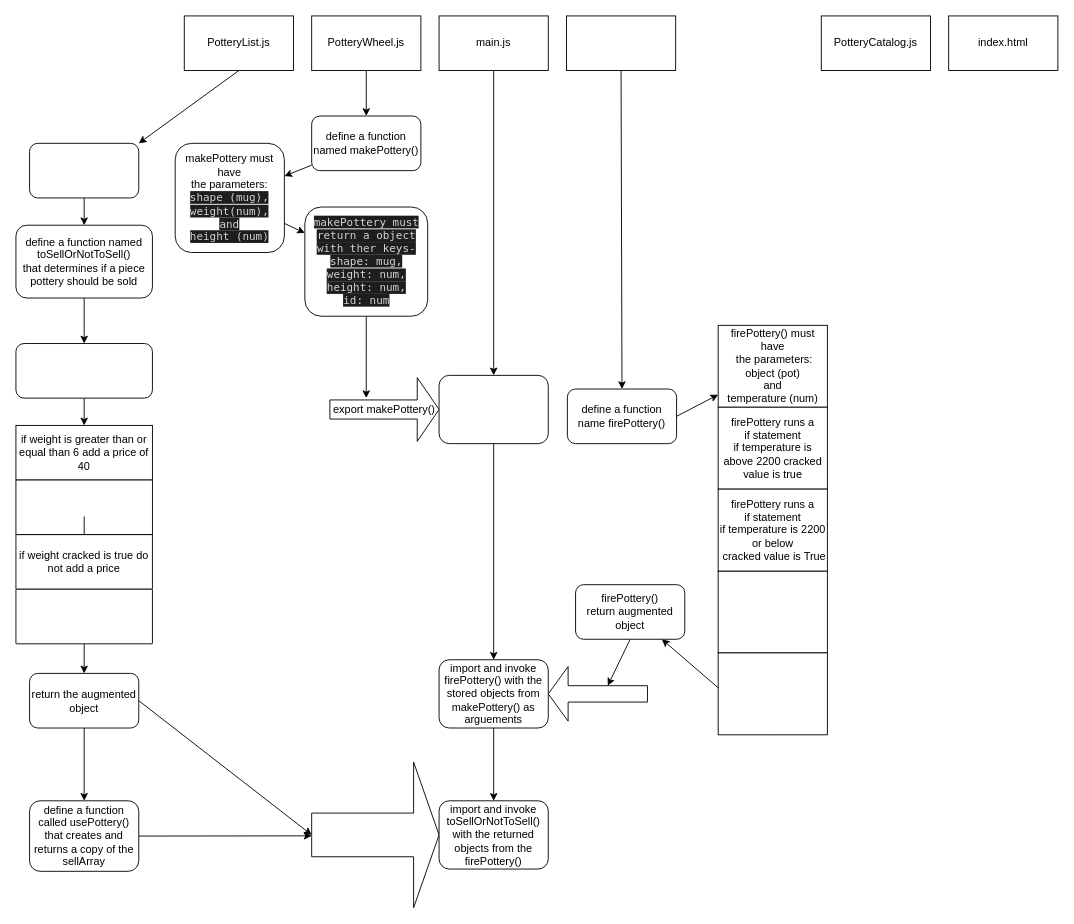
Image size: 1074x924. Some labels were removed from this diagram. The centre of each missing label's shape, as x and y in pixels:
Create an empty array called sellArray but do not export it: (84,170)
export firePottery(): (597,693)
export usePottery() toSellOrNotToSell(): (375,834)
firePottery must add the property "fired" with a value of False: (772,611)
firePottery must add the property cracked with a value of T/F: (772,693)
if object is not cracked add to the sellArray: (83,616)
if weight is less than 6 add a price of 20: (83,507)
import and invoke makePottery() store returned object 5x: (493,409)
Kiln.js: (621,43)
toSellOrNotToSell() must accept the pottery object as a parameter: (83,370)
